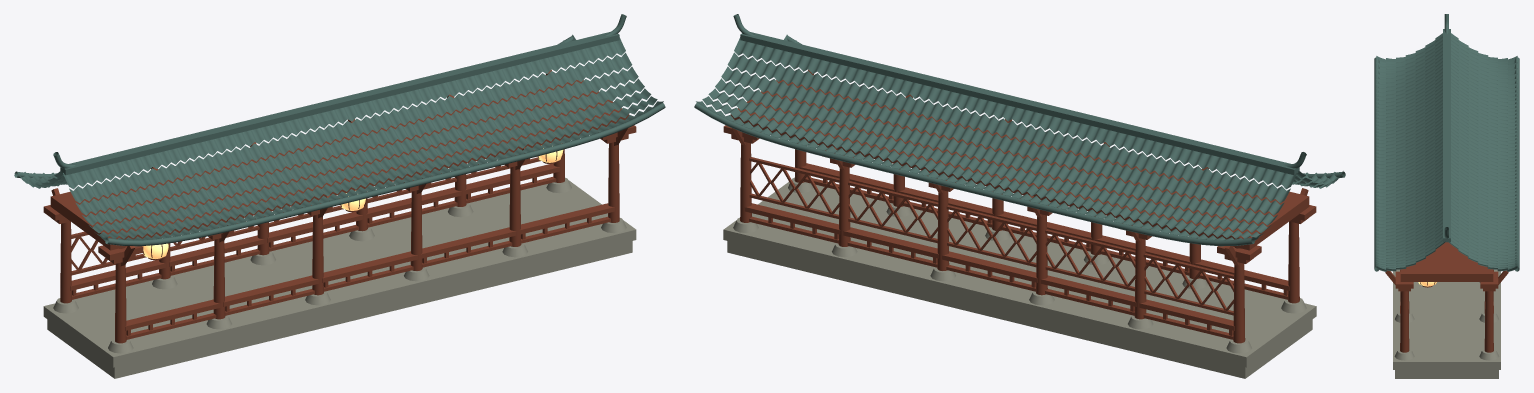
Rendered from WestWaterGallery.glb.
3 renders of one model, left to right at view 1: azimuth 30°, elevation 25°; view 2: azimuth 150°, elevation 25°; view 3: azimuth 270°, elevation 25°, orthographic. The views are drawn at different scales.
Parts seen in each view (by area): view 1: WestWaterGallery; view 2: WestWaterGallery; view 3: WestWaterGallery.
Part boxes in pixels (x1=…): WestWaterGallery: x1=14, y1=14, x2=665, y2=378; WestWaterGallery: x1=694, y1=14, x2=1345, y2=378; WestWaterGallery: x1=1374, y1=14, x2=1519, y2=378.
Bounding box in the file's own units: 17.42 × 6.04 × 4.95.
